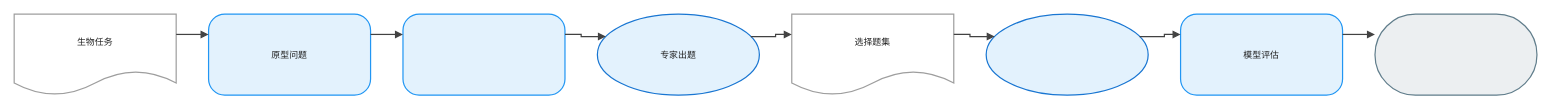
This 1552x110 diagram has some shape labels left out. The shapes that lost their labels are listed below. From the top down, each one's centre as x and y in pixels, then its label:
At point 483,54: "程序生成".
At point 1066,54: "人类基线".
At point 1455,54: "分数".
